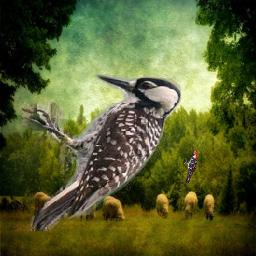Woodpecker: (23, 75, 182, 232), (183, 147, 197, 183)
